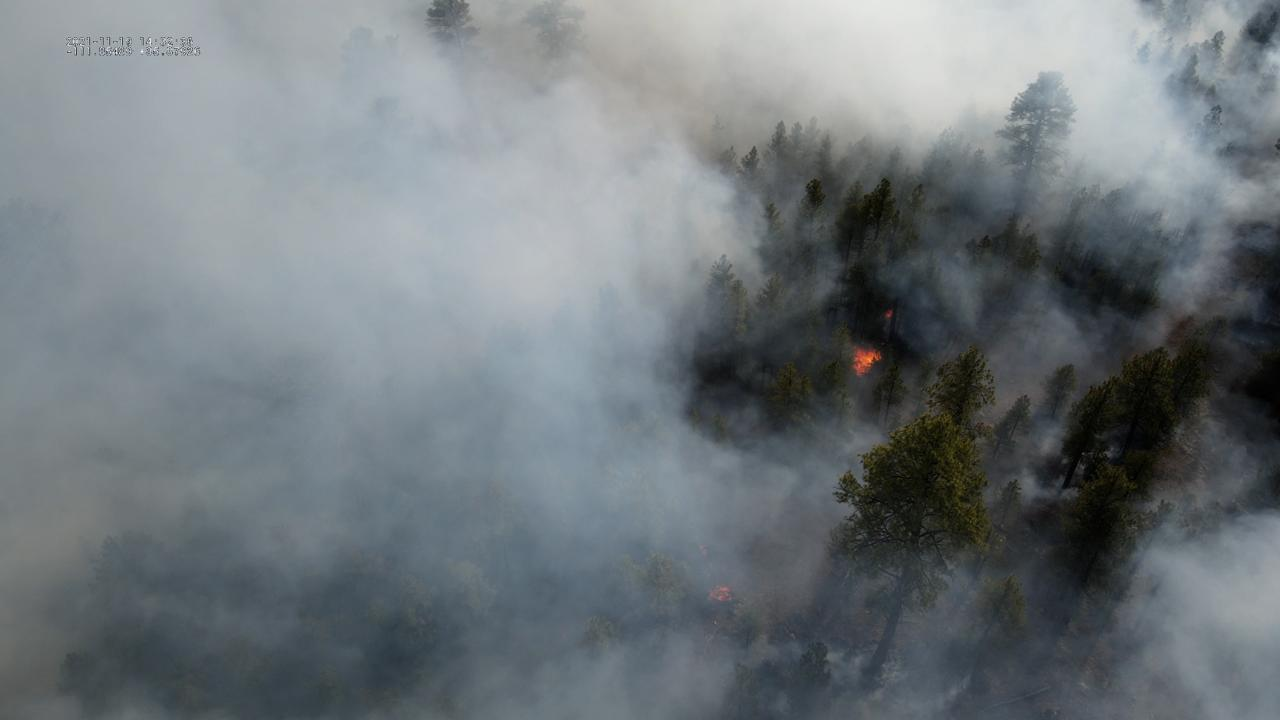fire: (849, 341, 884, 378), (708, 582, 734, 603), (882, 308, 895, 320)
smoke: (0, 0, 1280, 720)
